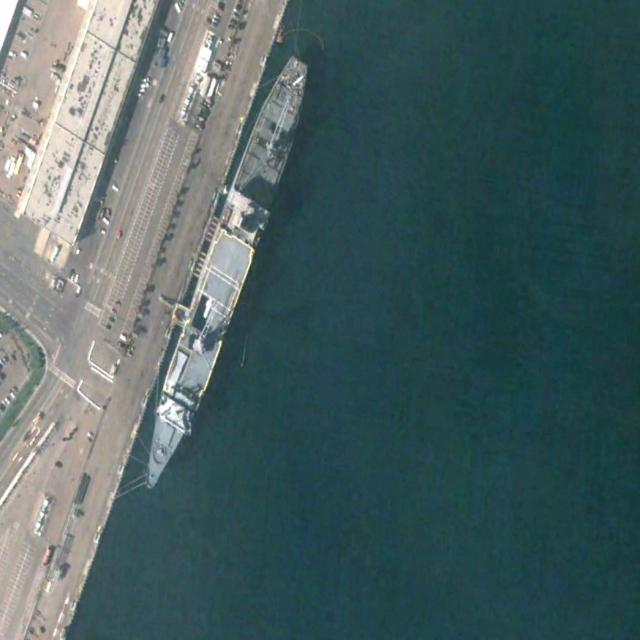Cargo: (129, 43, 321, 503)
